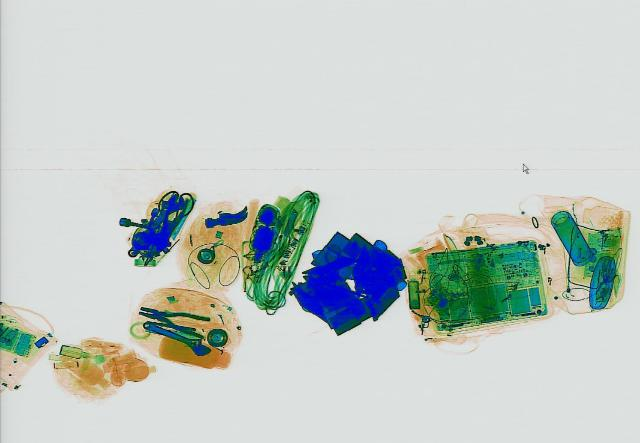Pliers: (133, 301, 215, 338)
Wrench: (136, 315, 218, 358)
